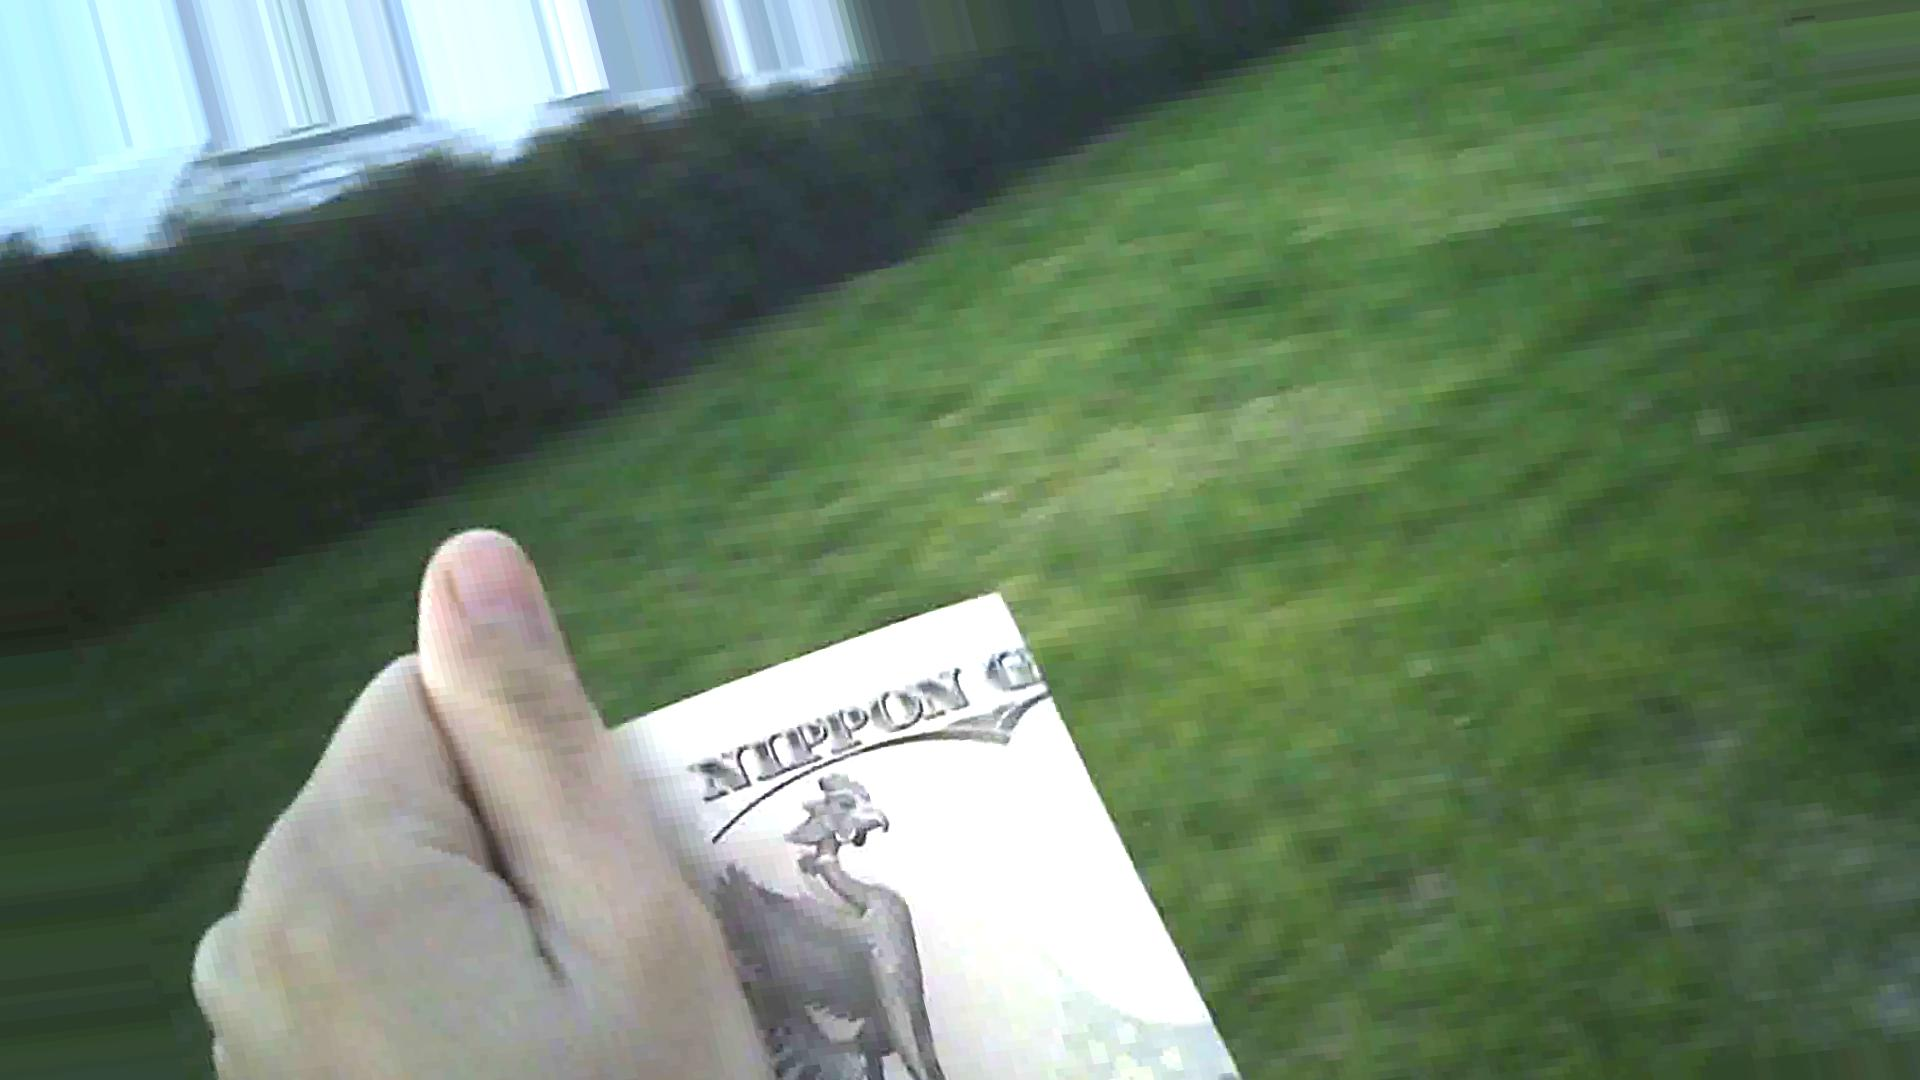10,000 Yen: (484, 513, 1185, 1079)
